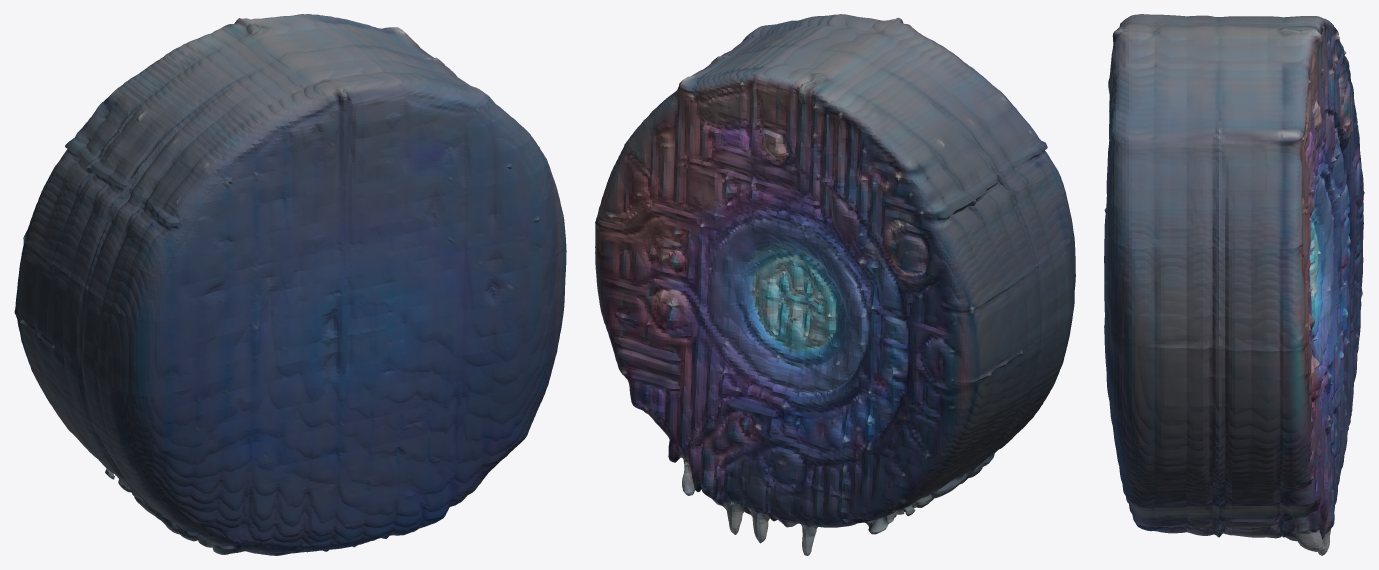
File: tmpbcg8p1_z.glb
The picture shows the model from 3 angles, left to right: view 1: azimuth 30°, elevation 25°; view 2: azimuth 150°, elevation 25°; view 3: azimuth 270°, elevation 25°; orthographic projection. The views are drawn at different scales.
Parts seen in each view (by area): view 1: world; view 2: world; view 3: world.
Boxes of the visible parts, bbox=[...] form: world: bbox=[14, 14, 566, 555]; world: bbox=[595, 14, 1075, 555]; world: bbox=[1104, 14, 1364, 555].
Size of the model in its own units: 0.8634 by 0.921 by 0.4416.
